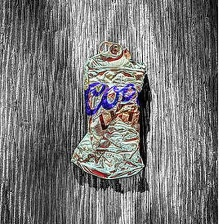can: (67, 37, 157, 186)
